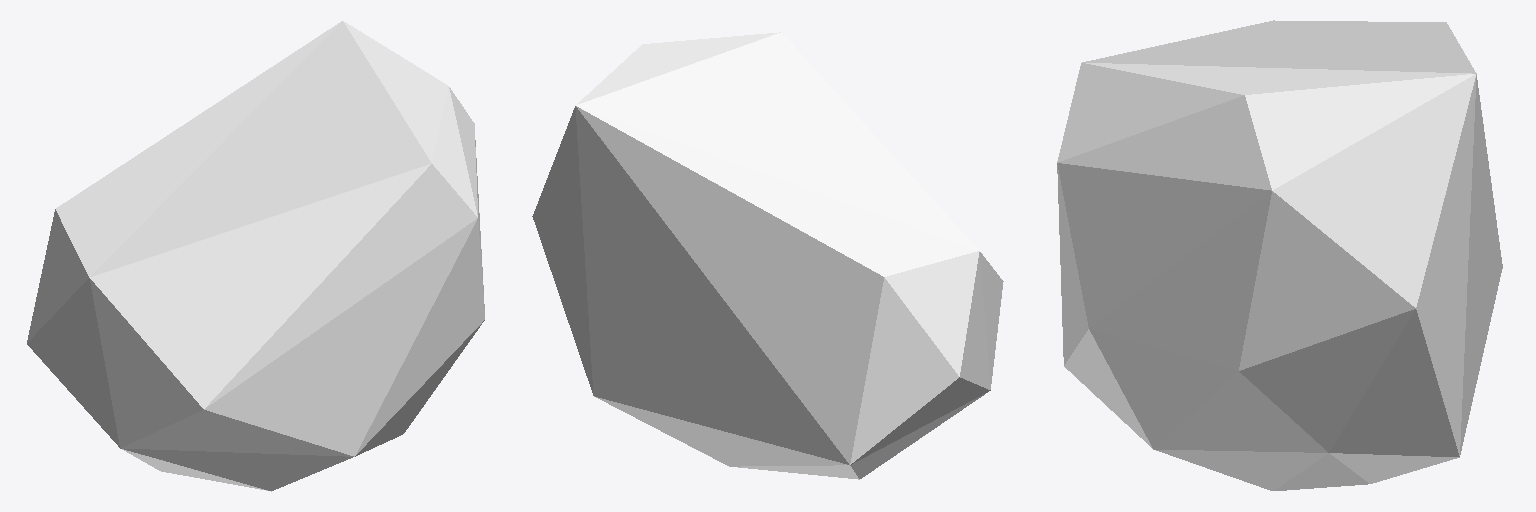
The robot description file, URDF, robot "robot_rleg_rom":
<robot name="robot_rleg_rom">
  <link name="base_link">
    <visual>
      <origin xyz="0 0 0" rpy="0 0 0" />
      <geometry>
        <mesh filename="package://hpp-rbprm-corba/meshes/robot_test/robot_rleg_rom.stl"/>
      </geometry>
      <material name="white">
        <color rgba="1 1 1 1"/>
      </material>
    </visual>
    <collision>
      <origin xyz="0 0 0" rpy="0 0 0" />
      <geometry>
        <mesh filename="package://hpp-rbprm-corba/meshes/robot_test/robot_rleg_rom.stl"/>
      </geometry>
    </collision>
  </link>
</robot>

--- Facts derived from the render (not from the file) ---
Views: 3 orthographic renders of the robot side by side, from view 1: azimuth 30°, elevation 25°; view 2: azimuth 150°, elevation 25°; view 3: azimuth 270°, elevation 25°.
Model robot_rleg_rom with 1 links and 0 joints (none), rooted at base_link, posed all joints at 0.
Visible links, largest first — view 1: base_link; view 2: base_link; view 3: base_link.
Link boxes in pixels (x1=…): base_link: x1=27, y1=21, x2=484, y2=491; base_link: x1=532, y1=32, x2=1003, y2=479; base_link: x1=1057, y1=20, x2=1502, y2=490.
Bounding box of the posed robot: 1.14 × 0.7874 × 0.9461 m (x, y, z).
Meshes: 1 distinct files referenced, 1 mesh visuals loaded (1 binary STL).